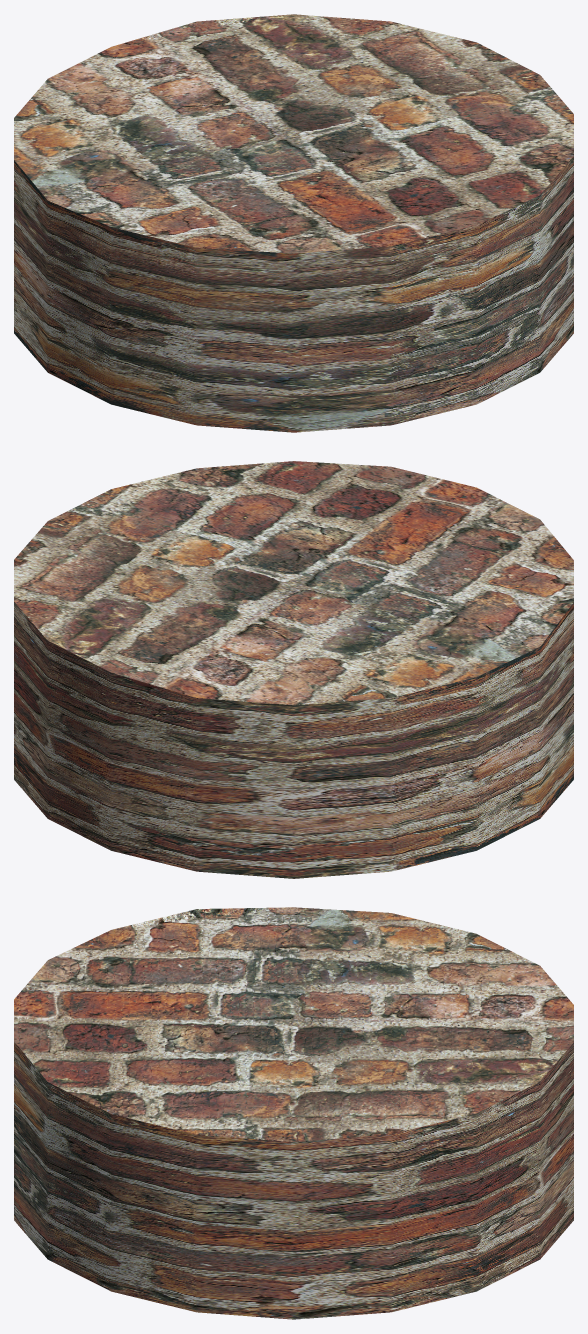
File: Lighthouse.obj
3 views of the same model, one above another, from view 1: azimuth 30°, elevation 25°; view 2: azimuth 150°, elevation 25°; view 3: azimuth 270°, elevation 25° (orthographic).
Parts seen in each view (by area): view 1: Cylinder001; view 2: Cylinder001; view 3: Cylinder001.
Boxes of the visible parts, bbox=[...] form: Cylinder001: bbox=[14, 14, 573, 432]; Cylinder001: bbox=[14, 461, 573, 878]; Cylinder001: bbox=[14, 907, 573, 1319].
Bounding box in the file's own units: 113 × 39.39 × 112.
Materials: 1 (1 with a texture image).
